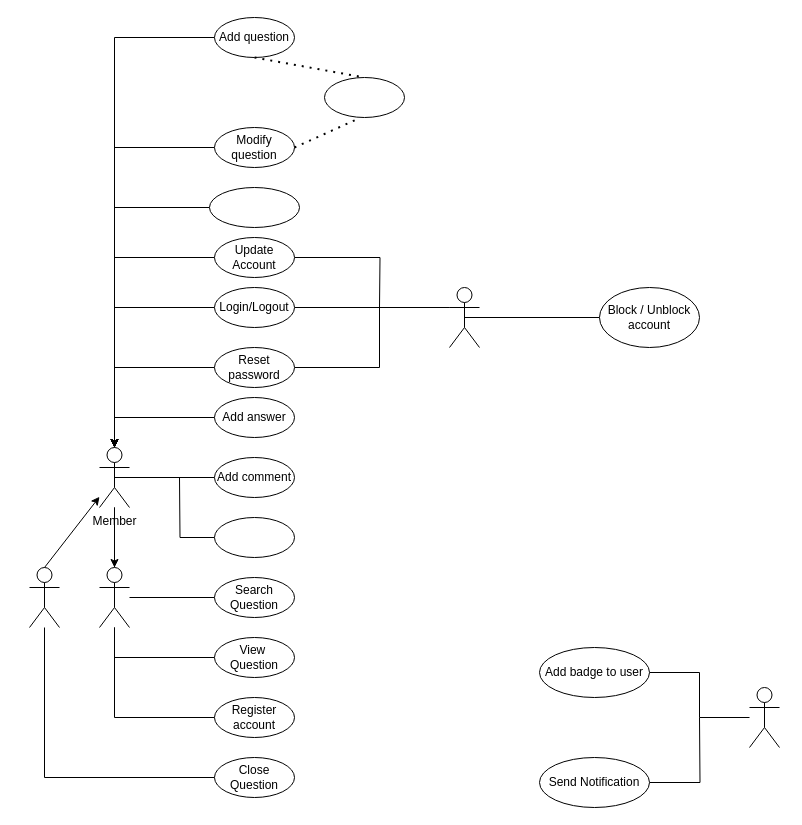
The diagram is 802 pixels wide and 825 high, and some of its shapes have lost their labels. Here are the shapes that lost their labels. From the top down, the centre of each, then its label:
pixel 364 97: Add tag
pixel 254 207: Cancel Membership
pixel 464 317: Admin
pixel 254 537: Delete question
pixel 44 597: Moderator
pixel 114 597: Guest
pixel 764 717: System
